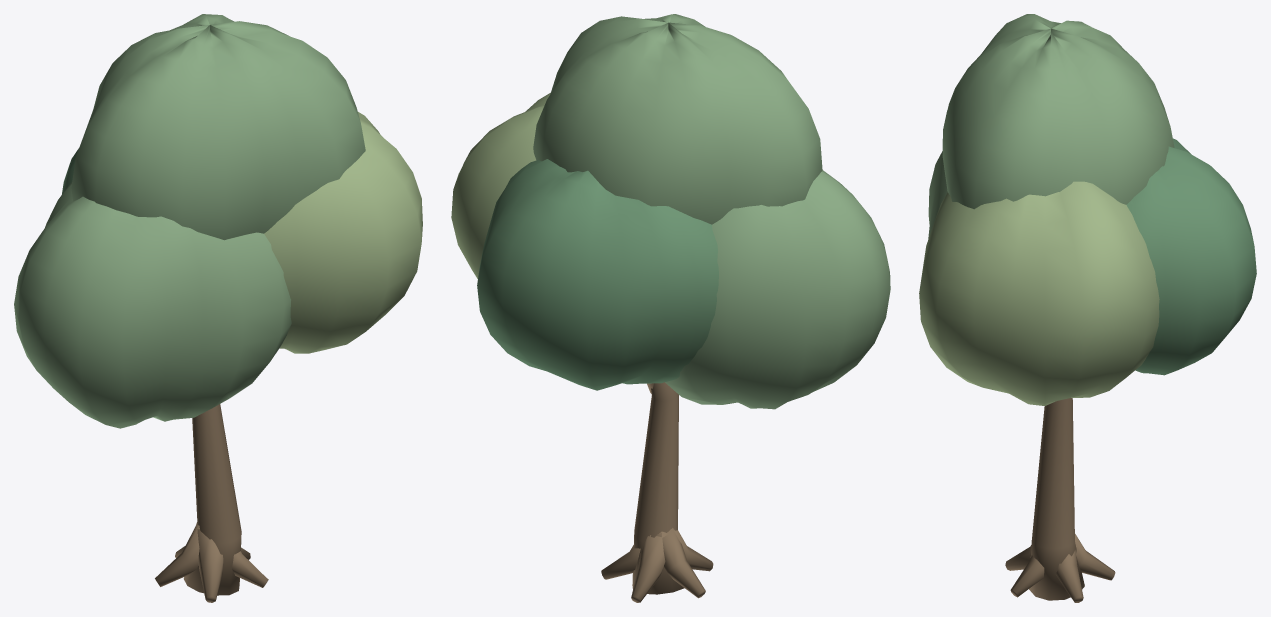
The model's file is SM_Broadleaf_01_UV_0092.fbx.
3 views of the same model, side by side, from view 1: azimuth 30°, elevation 25°; view 2: azimuth 150°, elevation 25°; view 3: azimuth 270°, elevation 25° (orthographic).
Visible parts, largest first — view 1: SM_Broadleaf_01_UV_0092; view 2: SM_Broadleaf_01_UV_0092; view 3: SM_Broadleaf_01_UV_0092.
Part boxes in pixels (x1,y1,x2,y2): SM_Broadleaf_01_UV_0092: (14,14,422,602); SM_Broadleaf_01_UV_0092: (451,14,890,602); SM_Broadleaf_01_UV_0092: (919,14,1256,602).
Size of the model in its own units: 820 by 612 by 1115.
